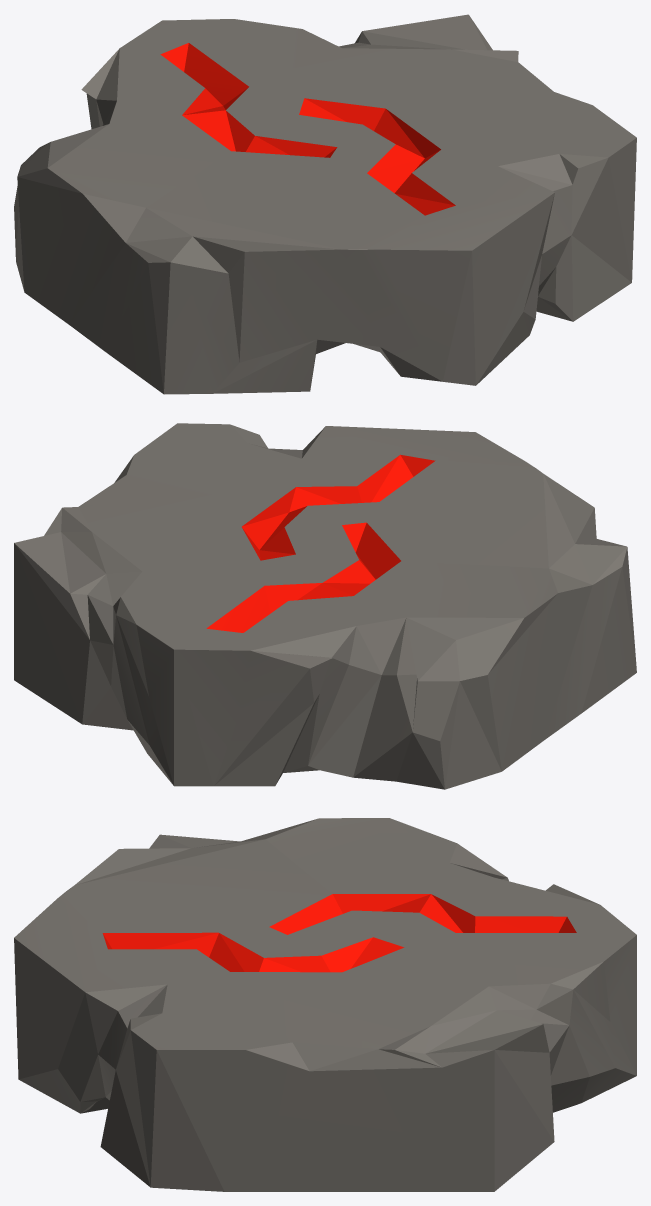
File: SM_Env_Rune_Rounded_05.obj
The picture shows the model from 3 angles, top to bottom: view 1: azimuth 30°, elevation 25°; view 2: azimuth 150°, elevation 25°; view 3: azimuth 270°, elevation 25°; orthographic projection. The views are drawn at different scales.
Parts seen in each view (by area): view 1: SM_Env_Rune_Rounded_05; view 2: SM_Env_Rune_Rounded_05; view 3: SM_Env_Rune_Rounded_05.
Boxes of the visible parts, x1,y1,x2,y2 form: SM_Env_Rune_Rounded_05: (14,14,636,394); SM_Env_Rune_Rounded_05: (14,423,636,789); SM_Env_Rune_Rounded_05: (14,818,636,1191).
Bounding box in the file's own units: 0.5625 × 0.1609 × 0.6384.
